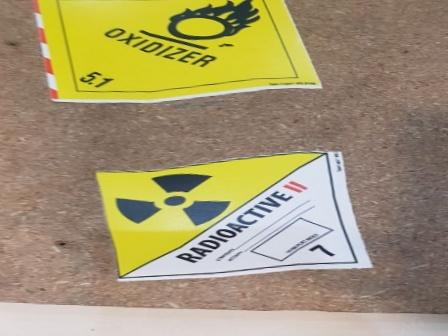oxidizer: (29, 1, 326, 103)
radioactive: (86, 153, 366, 280)
